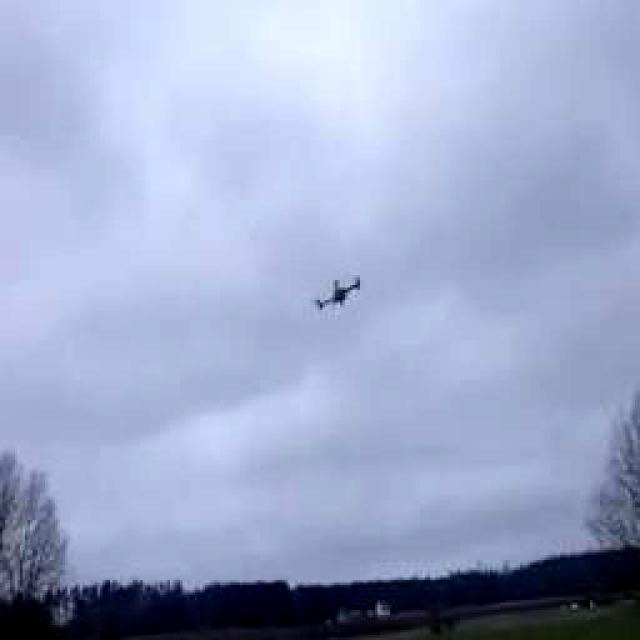bird: (285, 254, 380, 326)
